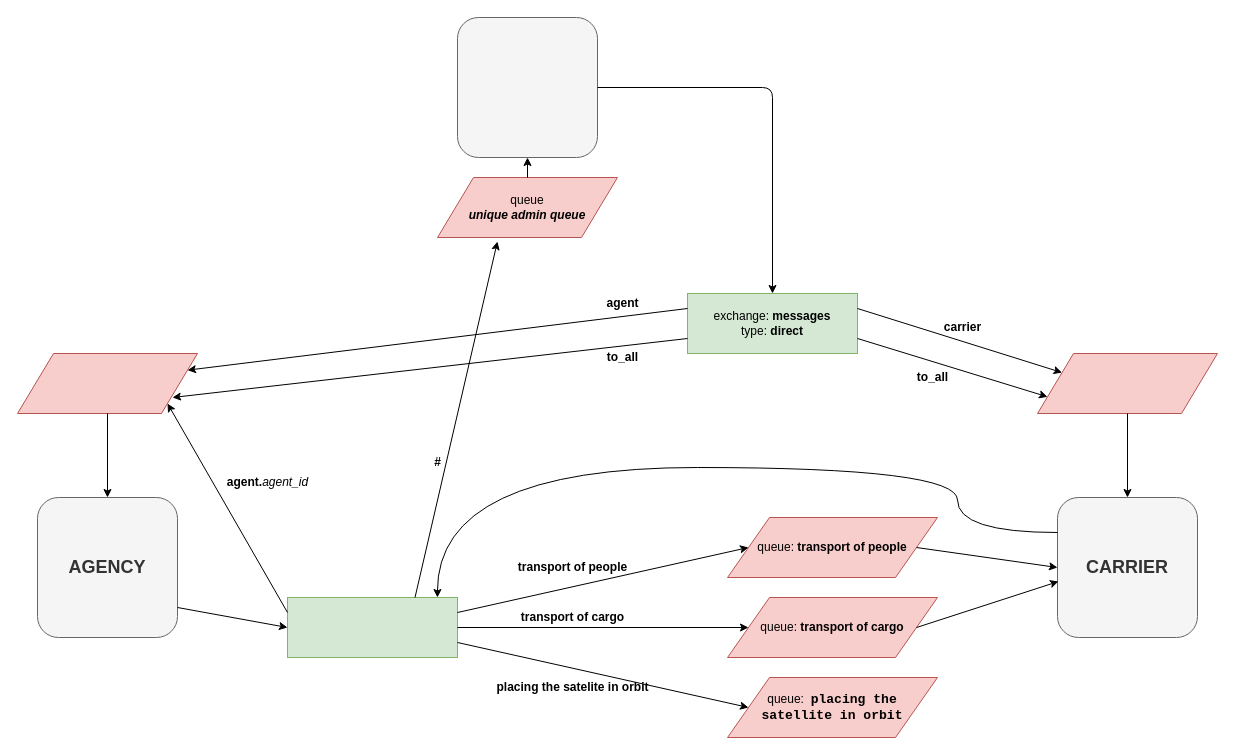
This 1235x755 diagram has some shape labels left out. The shapes that lost their labels are listed below. From the top down, each one's centre as x and y in pixels, then its label:
[527,87]: ADMIN
[107,383]: queue unique agency queue
[1127,383]: queue unique carrier queue
[372,627]: exchange: orders type: topic
